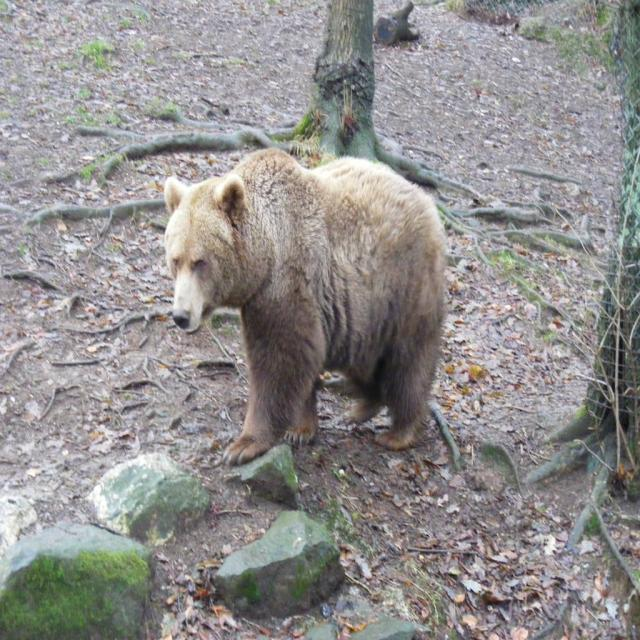Cheetahs: (162, 146, 442, 469)
